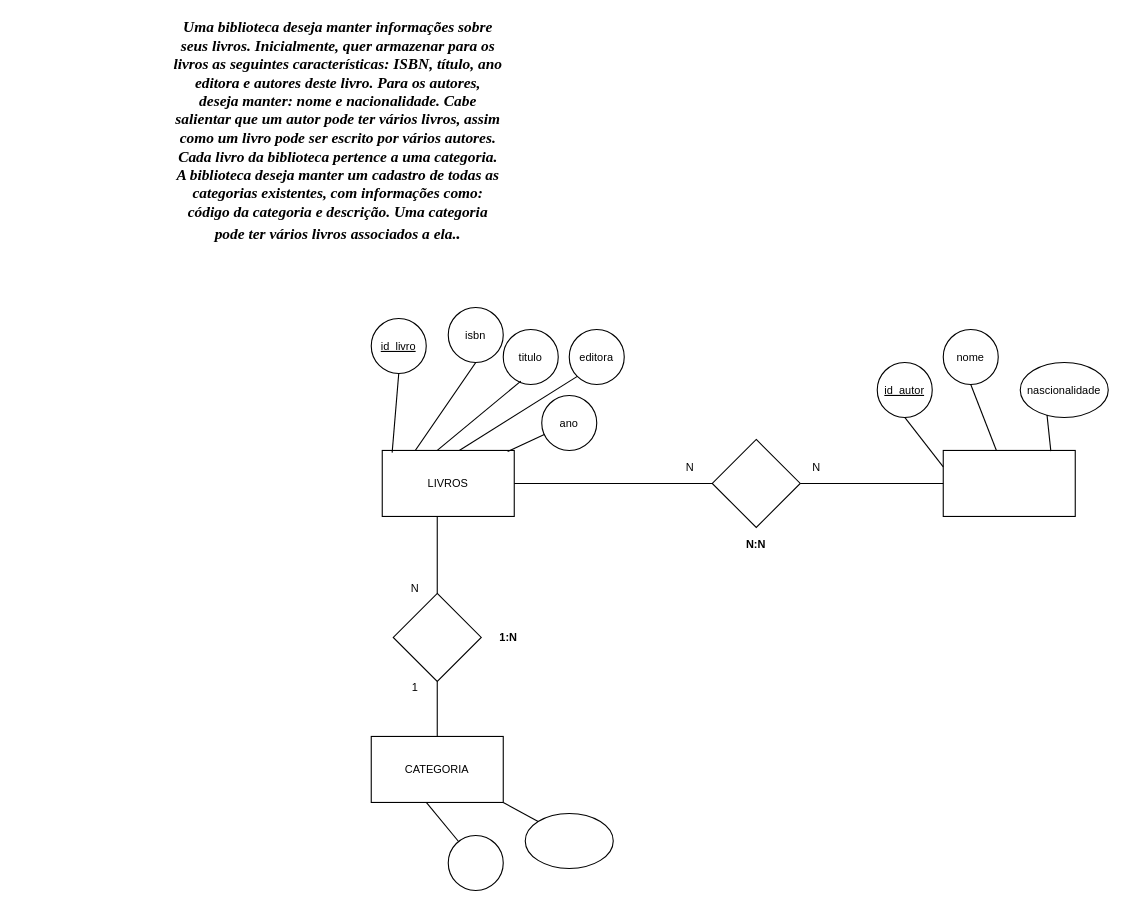
Some shapes in this 1128 by 910 pixel diagram are drawn without their labels. The box of each missing label's shape, as (x1, y1, x2, y2) in pixels:
AUTORES: (942, 449, 1075, 516)
cod_categoria: (524, 812, 613, 868)
descricao: (447, 834, 503, 890)
PERTENCE: (392, 592, 481, 681)
POSSUEM: (711, 438, 800, 527)
